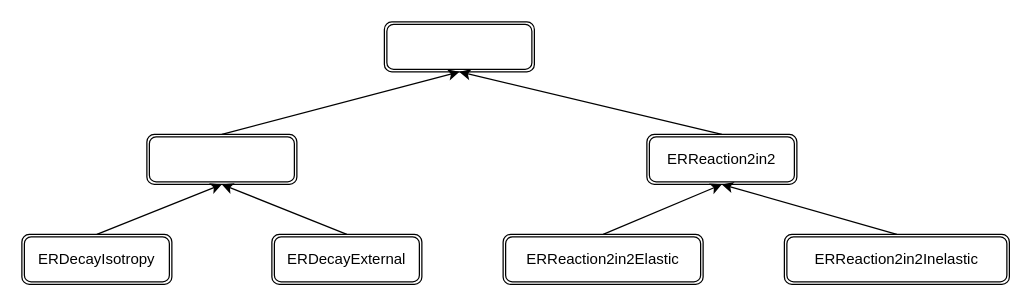
Image size: 1031x306. Some labels were removed from this diagram. The centre of each missing label's shape, as x and y in pixels:
ERDecay: [221,158]
ERInteraction: [458,46]
